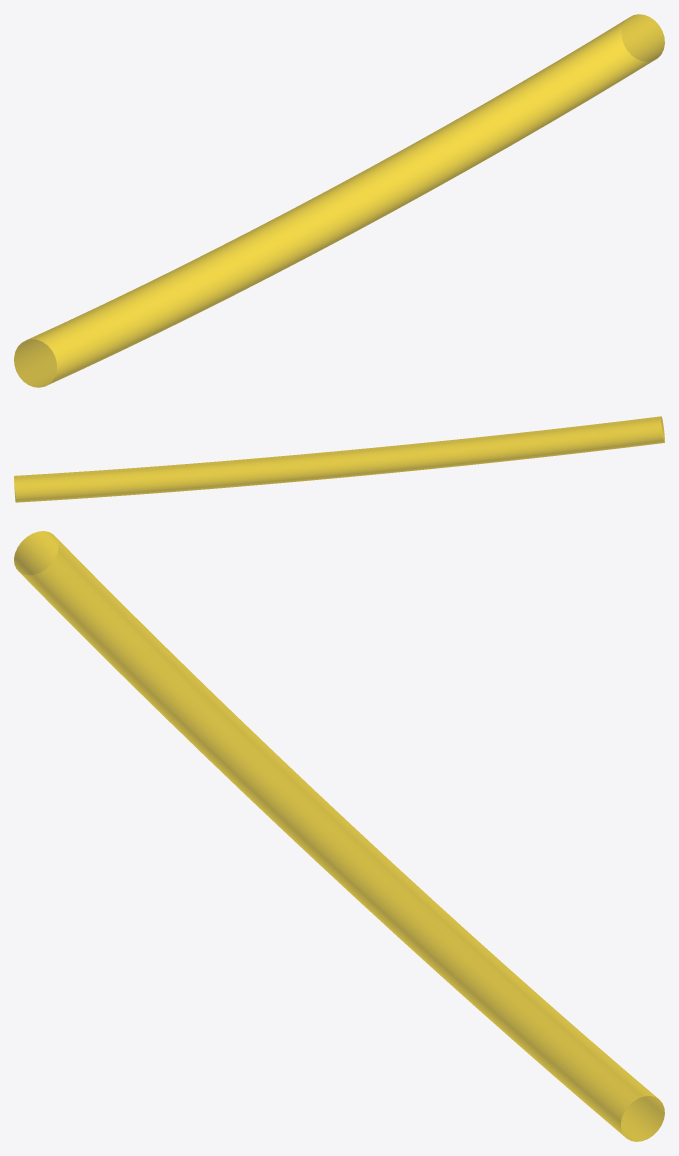
The model's file is Event_75125125_track_4.fbx.
3 views of the same model, one above another, from view 1: azimuth 30°, elevation 25°; view 2: azimuth 150°, elevation 25°; view 3: azimuth 270°, elevation 25° (orthographic). The views are drawn at different scales.
Visible parts, largest first — view 1: Model; view 2: Model; view 3: Model.
Part boxes in pixels (bbox=[...]): Model: bbox=[14, 14, 664, 387]; Model: bbox=[14, 416, 664, 502]; Model: bbox=[14, 531, 664, 1141].
Bounding box in the file's own units: 0.8556 × 0.14 × 0.5109.
